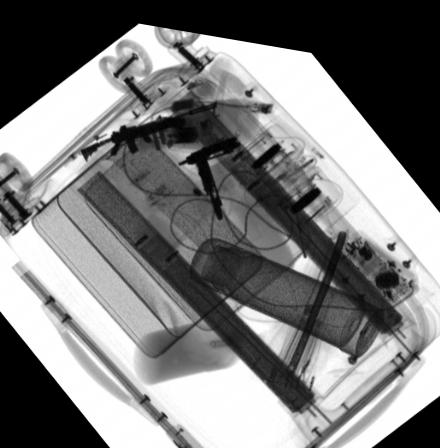Gun: (76, 91, 217, 160)
HandCuffs: (171, 124, 244, 216)
